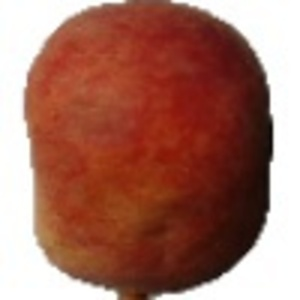pêssego: (21, 1, 274, 300)
